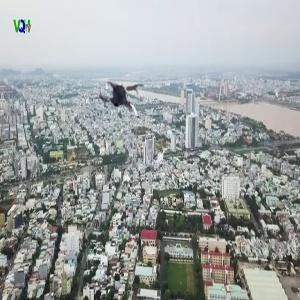drone: (93, 74, 152, 133)
